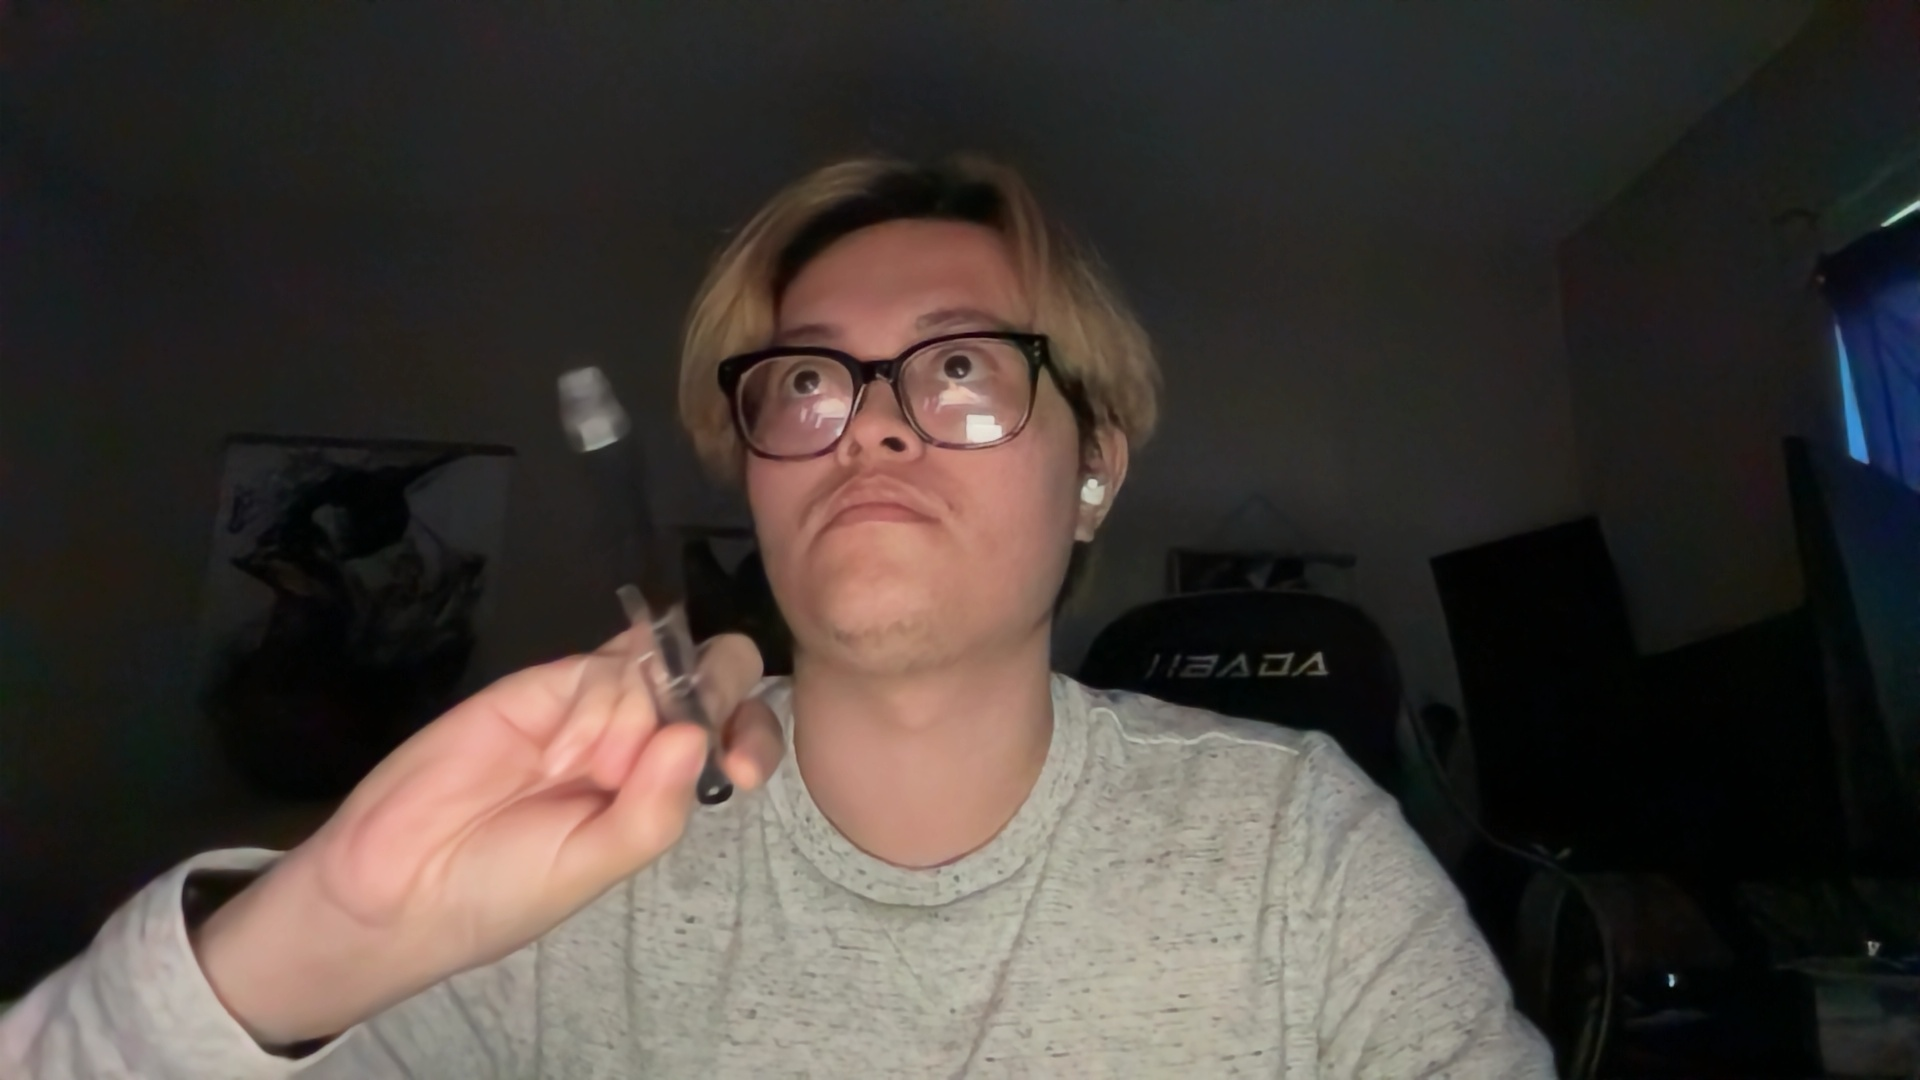pencil: (553, 363, 741, 814)
